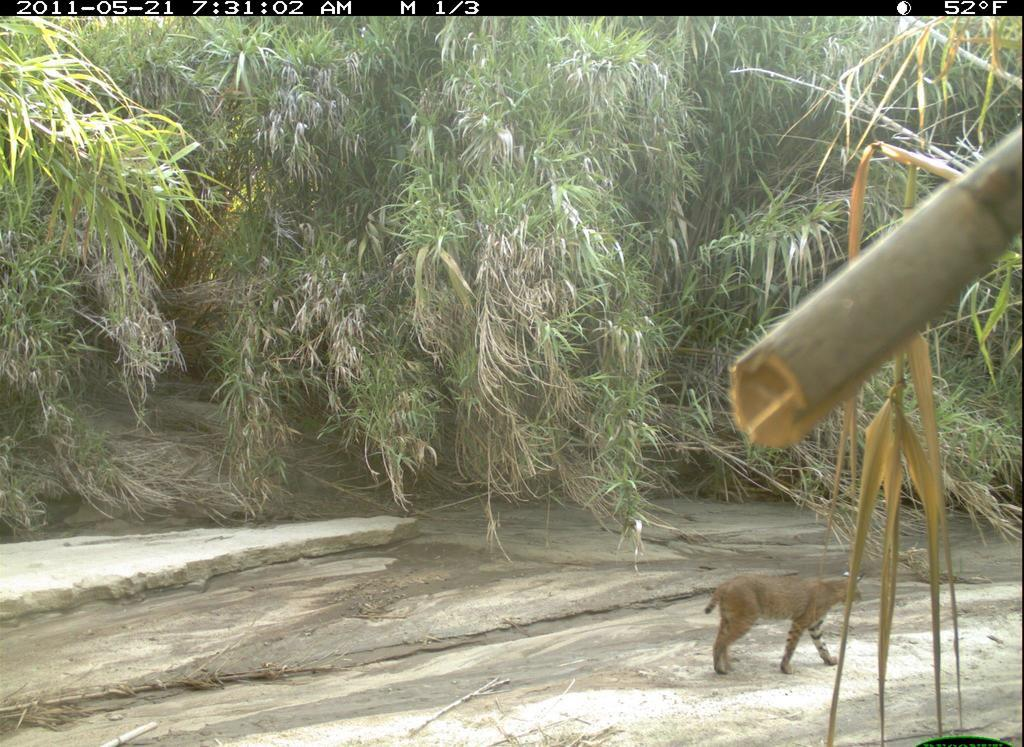bobcat: (702, 569, 867, 685)
